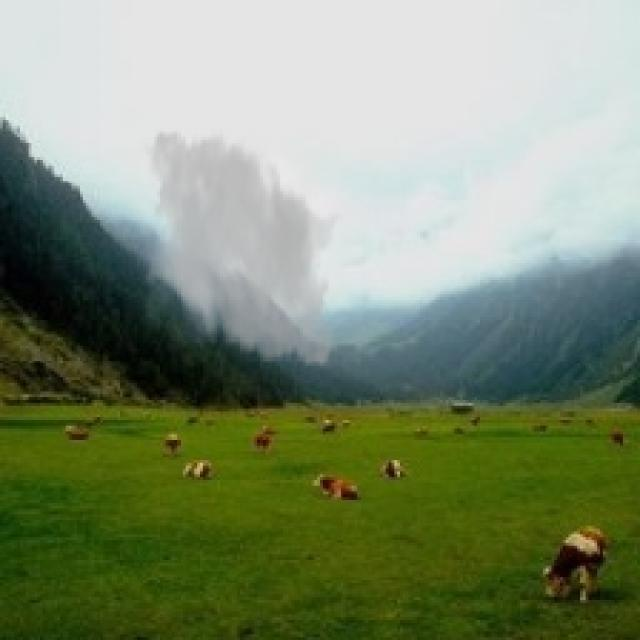Smoke: (134, 120, 354, 377)
